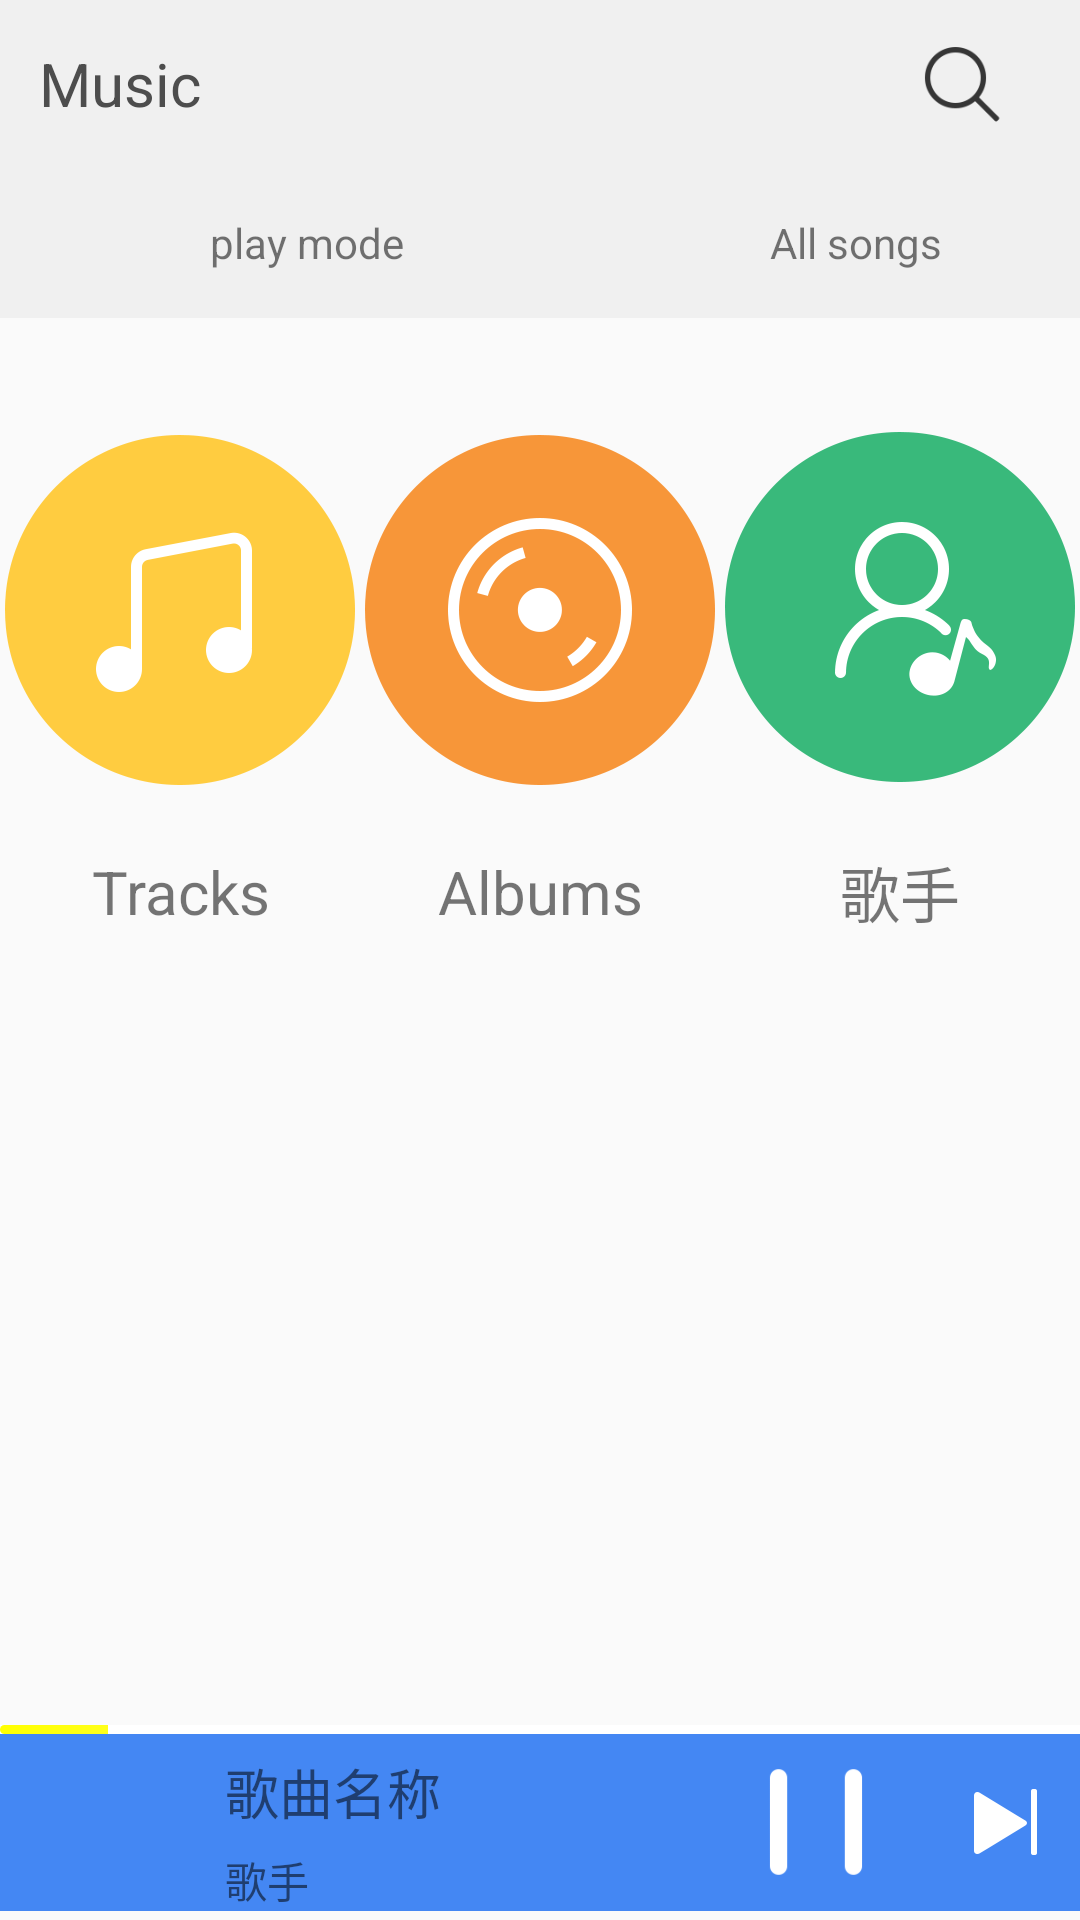

Icon click points for this 1080*1920 phone screenshot, format [x,y]:
next: [1005,1822]
pause: [816,1822]
search: [962,84]
